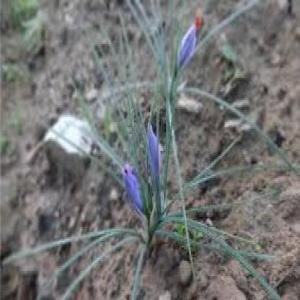Saffron: (172, 19, 201, 79), (145, 122, 165, 185), (122, 168, 146, 218)
